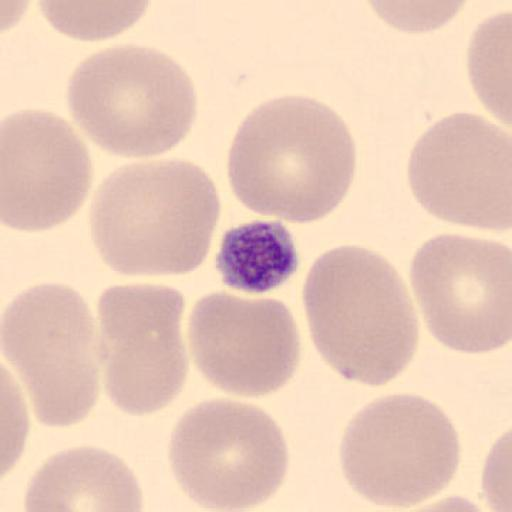Platelet: (214, 217, 302, 295)
RBC: (226, 93, 359, 227), (300, 242, 420, 388), (87, 157, 223, 279), (66, 41, 199, 159), (0, 280, 102, 427), (337, 392, 462, 509), (166, 396, 291, 512), (94, 280, 190, 418), (408, 230, 512, 357), (405, 110, 512, 233), (186, 289, 302, 399), (2, 106, 93, 234), (23, 443, 145, 512), (466, 9, 512, 129), (34, 0, 154, 44), (362, 0, 472, 35), (0, 364, 30, 481), (479, 426, 512, 512), (390, 492, 497, 512), (0, 0, 32, 35)
